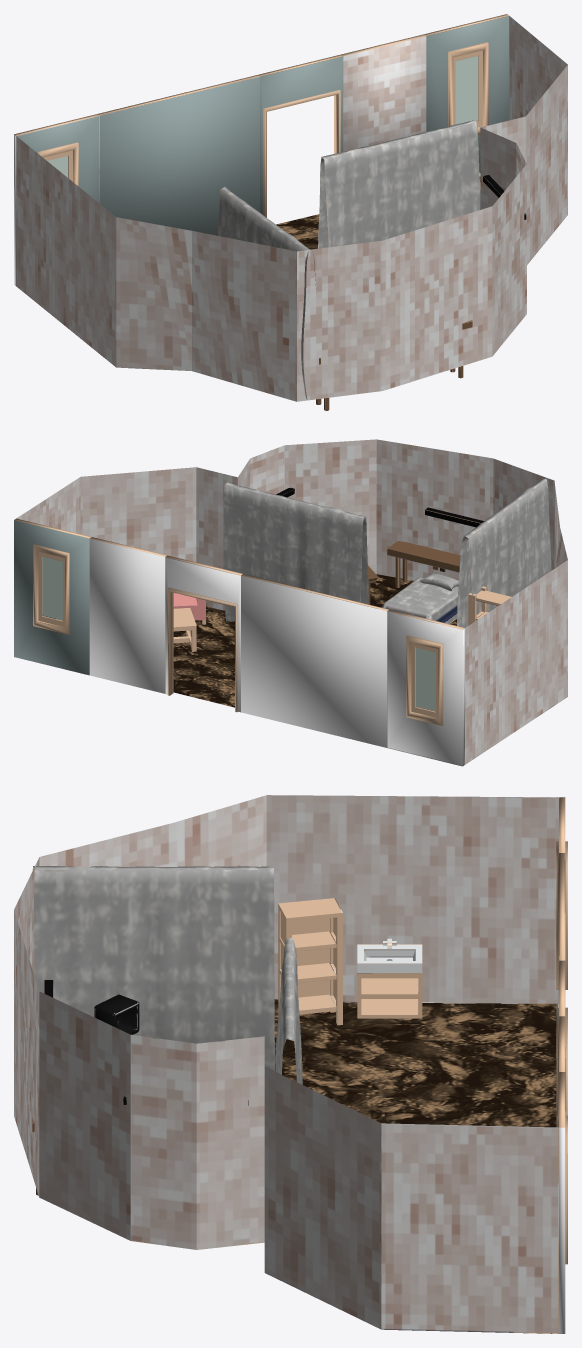
File: ER Room-col.glb
The picture shows the model from 3 angles, top to bottom: view 1: azimuth 30°, elevation 25°; view 2: azimuth 150°, elevation 25°; view 3: azimuth 270°, elevation 25°; orthographic projection. The views are drawn at different scales.
Visible parts, largest first — view 1: wall.001; view 2: wall.001; view 3: wall.001.
Part boxes in pixels (x1=…): wall.001: x1=14, y1=14, x2=567, y2=410; wall.001: x1=14, y1=439, x2=567, y2=766; wall.001: x1=14, y1=795, x2=567, y2=1333.
Bounding box in the file's own units: 65.99 × 20.93 × 46.2.
1 material, 1 textured.
